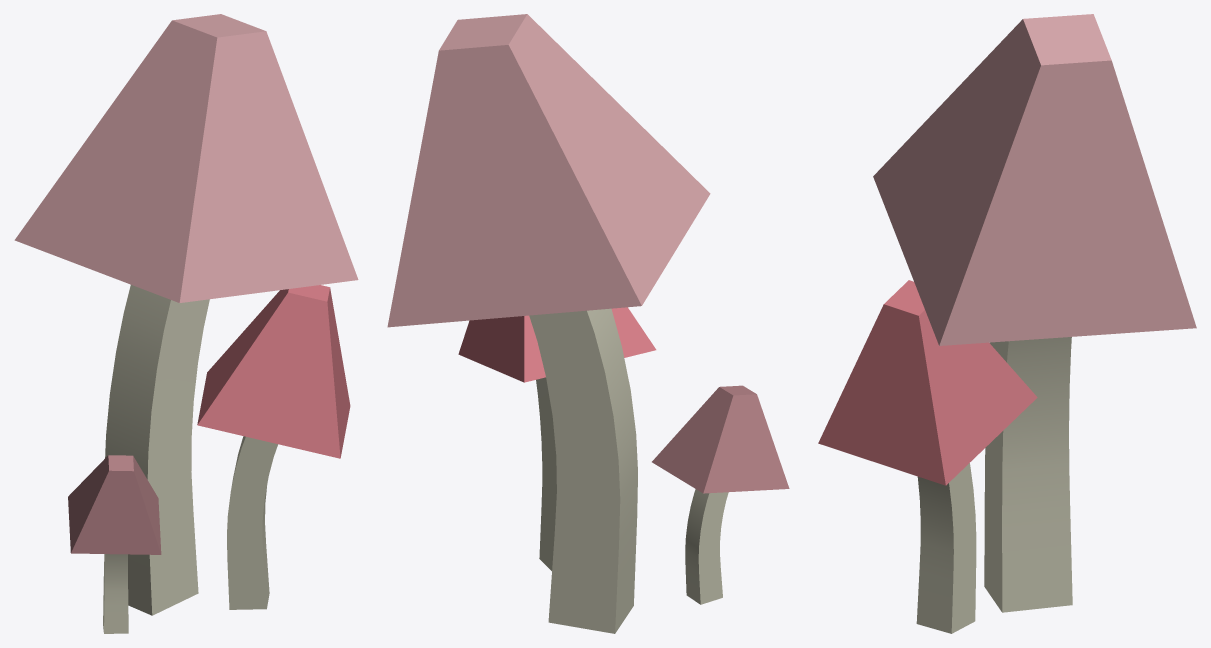
File: shrooms_03.fbx
The picture shows the model from 3 angles, left to right: view 1: azimuth 30°, elevation 25°; view 2: azimuth 150°, elevation 25°; view 3: azimuth 270°, elevation 25°; orthographic projection. The views are drawn at different scales.
Visible parts, largest first — view 1: pCube2 (×3), pCube1 (×3); view 2: pCube2 (×3), pCube1 (×3); view 3: pCube2 (×2), pCube1 (×2).
Boxes of the visible parts, box(x1,y1,x2,y2) form: pCube2 (×3): box(14, 14, 358, 554); pCube1 (×3): box(103, 285, 277, 633); pCube2 (×3): box(387, 14, 789, 493); pCube1 (×3): box(529, 308, 728, 633); pCube2 (×2): box(818, 14, 1196, 485); pCube1 (×2): box(916, 337, 1072, 633).
Bounding box in the file's own units: 20.67 × 35.95 × 20.14.
